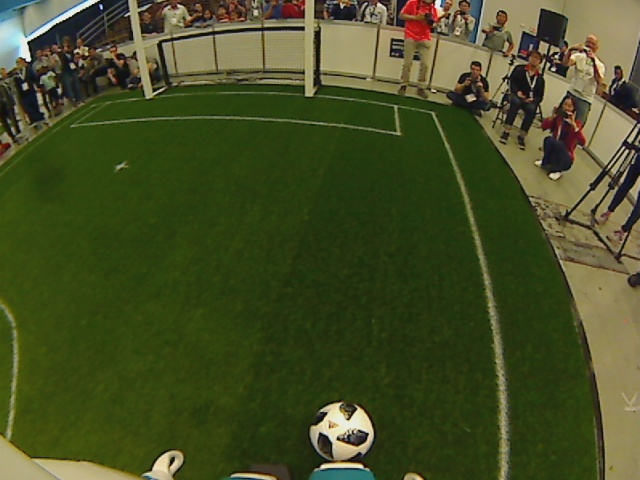ball: (307, 396, 375, 464)
goalpost: (128, 1, 315, 101)
